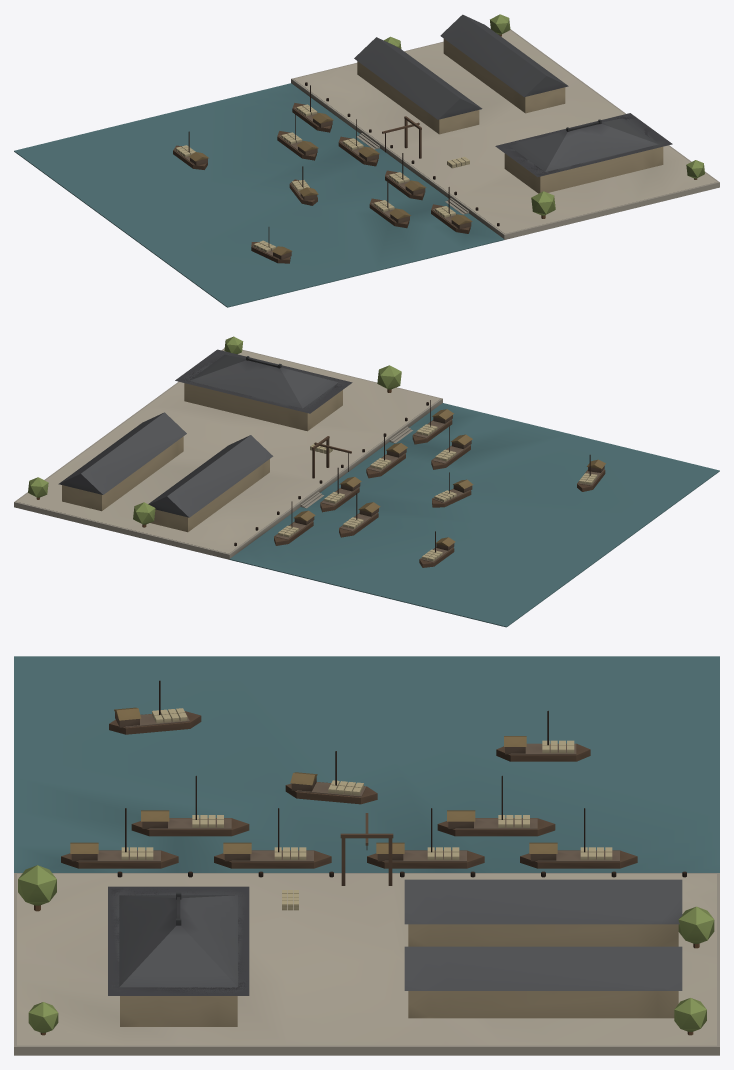
File: jishuitan-harbour.glb
The picture shows the model from 3 angles, top to bottom: view 1: azimuth 30°, elevation 25°; view 2: azimuth 150°, elevation 25°; view 3: azimuth 270°, elevation 25°; orthographic projection. The views are drawn at different scales.
Parts seen in each view (by area): view 1: p0_quays, p1_warehouses, p2_trees; view 2: p0_quays, p1_warehouses, p2_trees; view 3: p0_quays, p1_warehouses, p2_trees.
Part boxes in pixels (x1,y1,x2,y2): p0_quays: [14, 29, 719, 307]; p1_warehouses: [354, 14, 672, 193]; p2_trees: [173, 14, 704, 263]; p0_quays: [14, 348, 719, 627]; p1_warehouses: [58, 349, 352, 532]; p2_trees: [28, 336, 605, 567]; p0_quays: [14, 656, 719, 1055]; p1_warehouses: [108, 813, 682, 1026]; p2_trees: [18, 680, 714, 1035].
Size of the model in its own units: 160 by 14.9 by 120.
